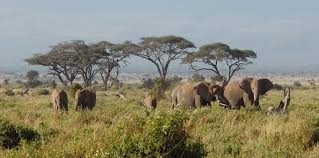elephant: (224, 75, 273, 110), (168, 78, 212, 111), (72, 85, 97, 113), (50, 85, 69, 113)
